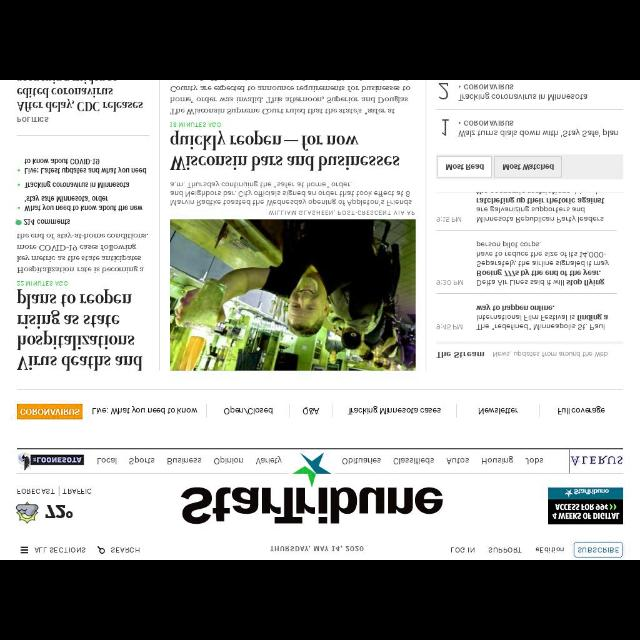icon: (20, 546, 30, 554), (96, 546, 105, 554), (15, 218, 22, 226)
image: (170, 220, 416, 370), (181, 488, 443, 524), (548, 488, 622, 524), (570, 448, 624, 474), (292, 452, 332, 486), (18, 452, 84, 470), (16, 501, 40, 523)
multitab: (84, 449, 556, 473), (82, 404, 616, 420)
text: (17, 288, 144, 372), (170, 130, 400, 172), (168, 84, 412, 116), (170, 180, 412, 206), (476, 241, 610, 287), (17, 232, 150, 274), (476, 303, 610, 331), (476, 196, 606, 224), (17, 88, 144, 112), (24, 194, 144, 212), (24, 158, 148, 175), (458, 128, 618, 138), (458, 92, 588, 101), (492, 348, 608, 358), (92, 405, 198, 415), (347, 405, 441, 415), (268, 210, 416, 216), (24, 181, 130, 189), (270, 544, 364, 552), (224, 405, 274, 415), (44, 504, 74, 520), (20, 407, 80, 415), (557, 406, 605, 416), (436, 350, 484, 360), (16, 279, 70, 287), (34, 546, 86, 554), (24, 218, 70, 226), (392, 456, 436, 464), (168, 456, 202, 466), (480, 455, 514, 465), (578, 546, 620, 554), (342, 456, 382, 464), (478, 406, 518, 414), (169, 122, 221, 128), (464, 120, 514, 126), (464, 84, 514, 90), (255, 455, 283, 465), (488, 546, 522, 554), (534, 545, 566, 553), (110, 546, 140, 554), (214, 456, 244, 464), (17, 488, 55, 494), (436, 278, 464, 286), (450, 546, 476, 554), (129, 456, 155, 464), (16, 116, 49, 122), (438, 82, 449, 100), (436, 324, 464, 331), (446, 456, 469, 464), (436, 215, 462, 222), (441, 118, 451, 136), (96, 457, 118, 465), (64, 488, 92, 494), (524, 457, 544, 465), (302, 406, 320, 414)
textbutton: (494, 156, 562, 176), (438, 156, 492, 176), (574, 542, 624, 556)
